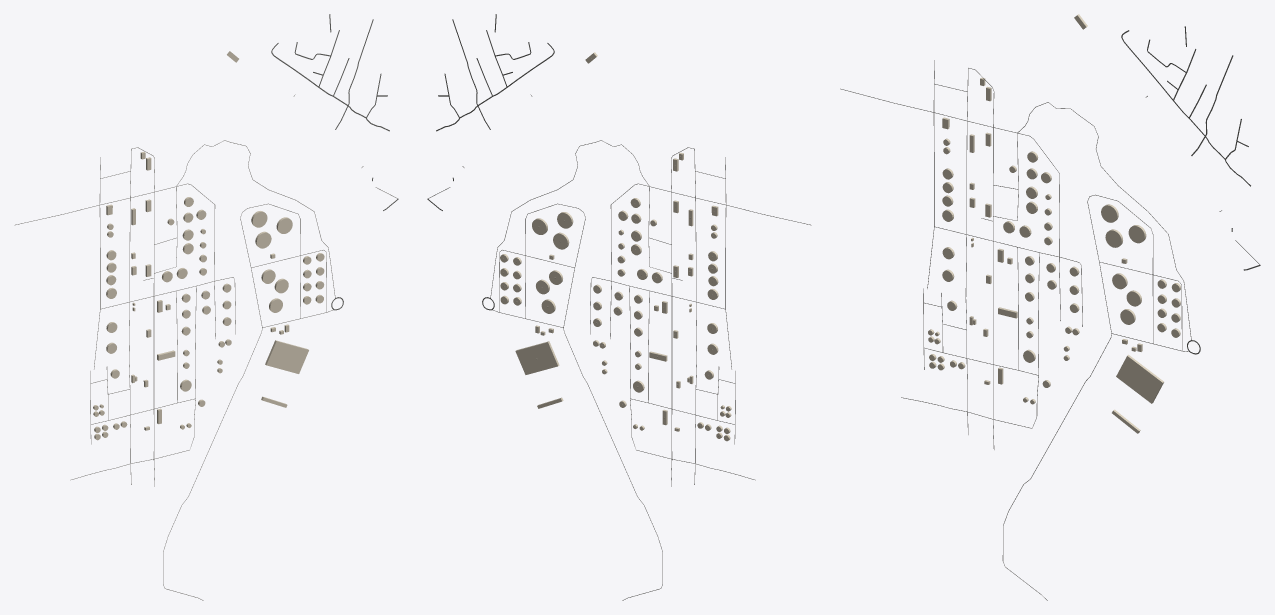
The model's file is zarqa_3611_3212.glb.
3 views of the same model, side by side, from view 1: azimuth 30°, elevation 25°; view 2: azimuth 150°, elevation 25°; view 3: azimuth 330°, elevation 25° (orthographic). The views are drawn at different scales.
Visible parts, largest first — view 1: Building_.010, Road .014; view 2: Building_.010, Road .014; view 3: Building_.010, Road .014.
Part boxes in pixels (<box>): Building_.010: <box>265,340,308,373</box>; Road .014: <box>163,203,300,600</box>; Building_.010: <box>515,341,559,374</box>; Road .014: <box>525,203,662,600</box>; Building_.010: <box>1116,354,1163,403</box>; Road .014: <box>1002,194,1153,600</box>.
Size of the model in its own units: 1208 by 1670 by 8.7.
